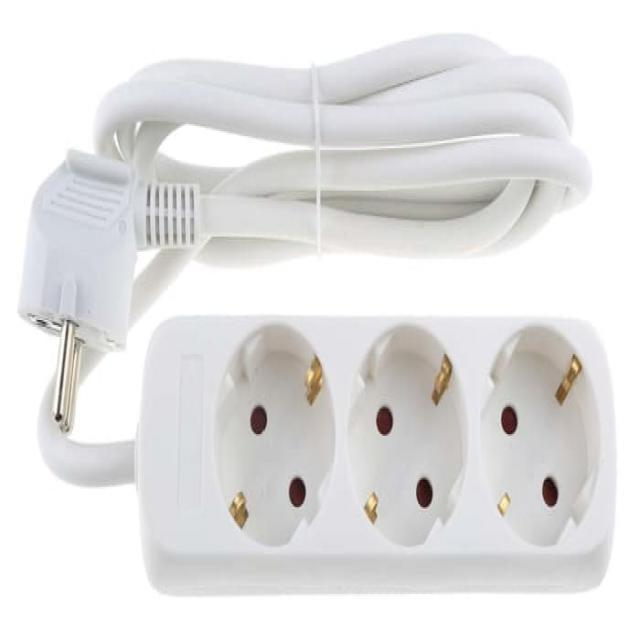typeb: (140, 314, 623, 574)
